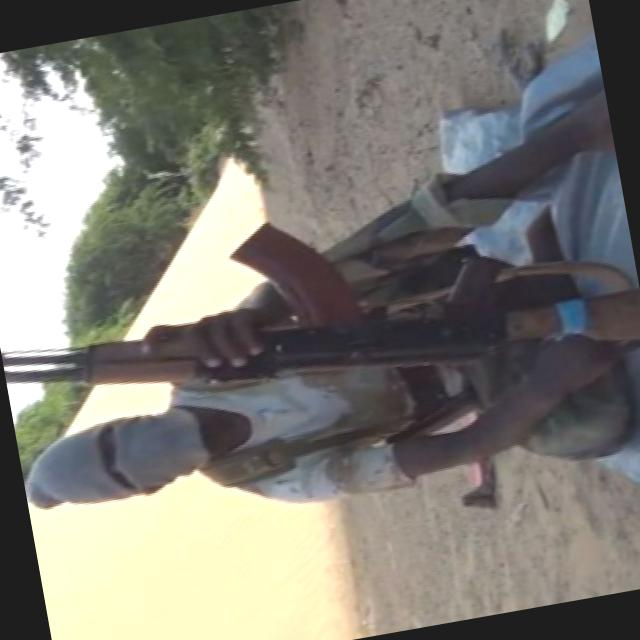long weapon: (0, 170, 639, 488)
